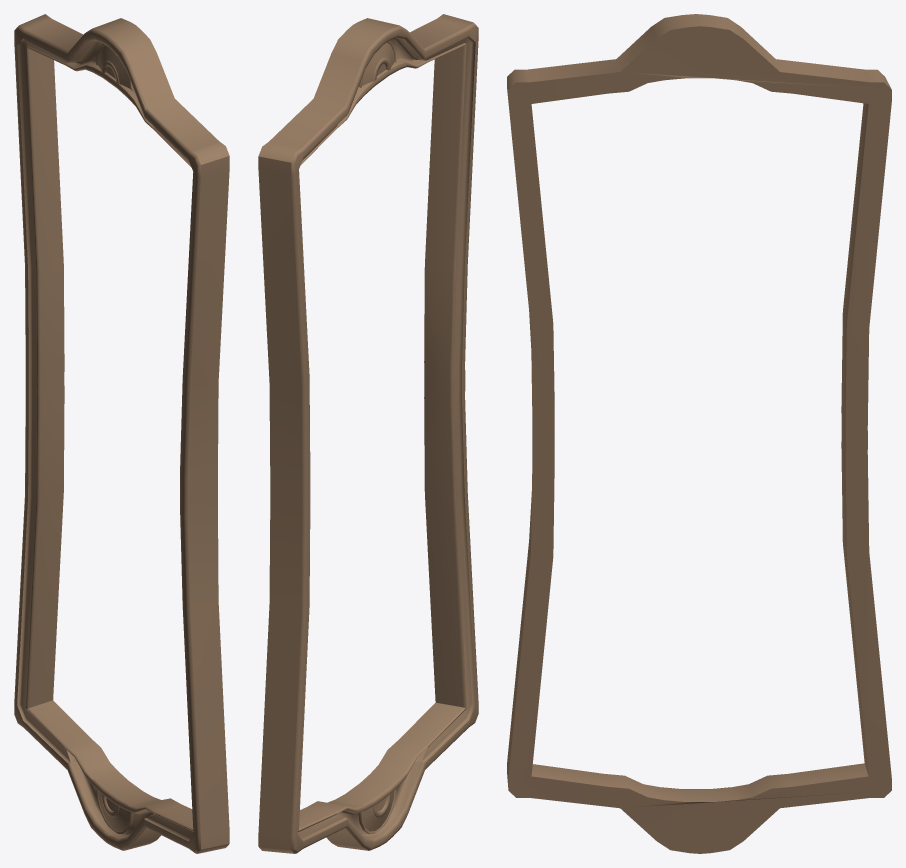
The model's file is SM_GrandeCadre_low.fbx.
The picture shows the model from 3 angles, left to right: view 1: azimuth 30°, elevation 25°; view 2: azimuth 150°, elevation 25°; view 3: azimuth 270°, elevation 25°; orthographic projection.
Parts seen in each view (by area): view 1: SM_GrandeCadre_low; view 2: SM_GrandeCadre_low; view 3: SM_GrandeCadre_low.
Boxes of the visible parts, x1,y1,x2,y2 form: SM_GrandeCadre_low: [14, 14, 229, 853]; SM_GrandeCadre_low: [258, 14, 478, 853]; SM_GrandeCadre_low: [507, 14, 891, 853].
Size of the model in its own units: 33.28 by 809 by 341.
